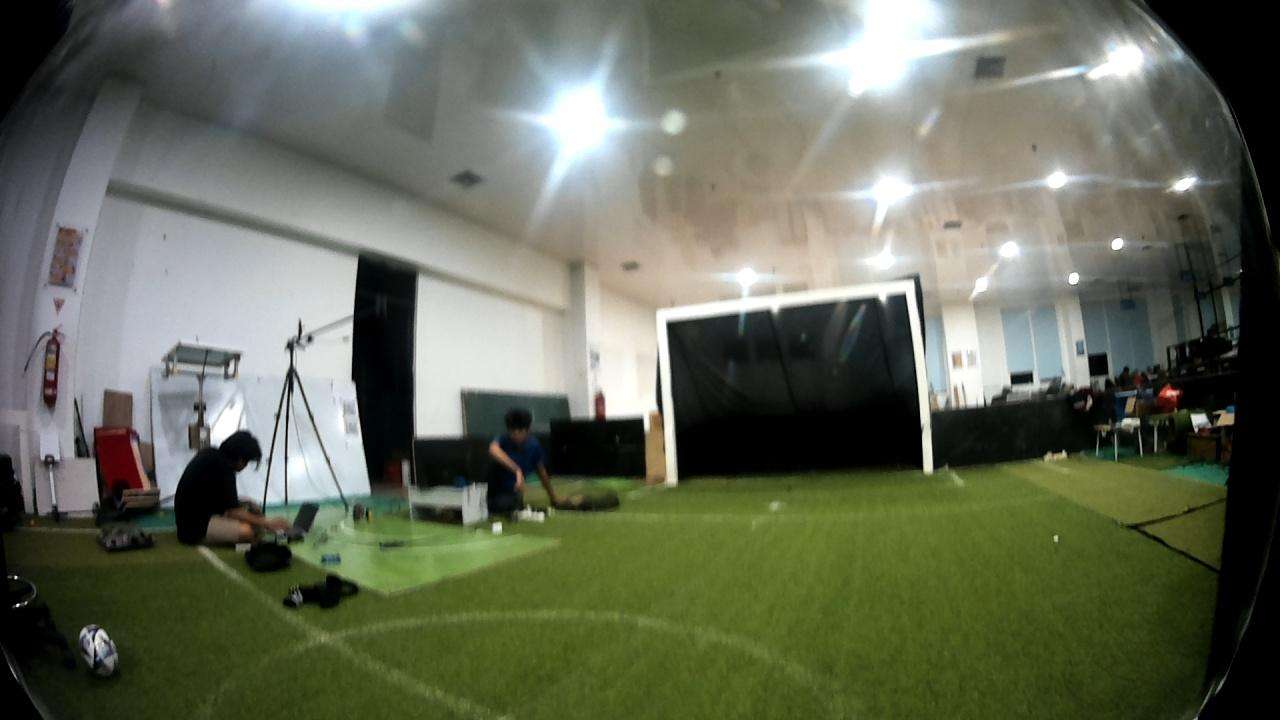ball: (71, 615, 124, 684)
